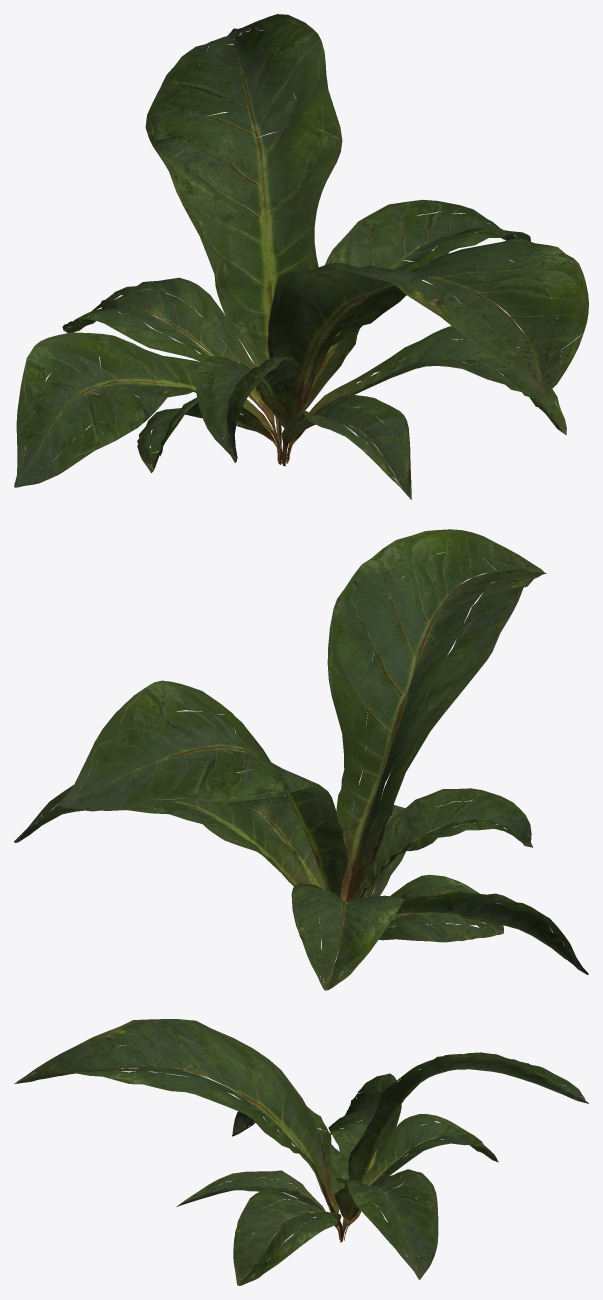
File: anthurium0.glb
The picture shows the model from 3 angles, top to bottom: view 1: azimuth 30°, elevation 25°; view 2: azimuth 150°, elevation 25°; view 3: azimuth 270°, elevation 25°; orthographic projection. The views are drawn at different scales.
Visible parts, largest first — view 1: anthurium_botany_01_a; view 2: anthurium_botany_01_a; view 3: anthurium_botany_01_a.
Part boxes in pixels (x1=…): anthurium_botany_01_a: x1=14, y1=14, x2=588, y2=499; anthurium_botany_01_a: x1=14, y1=529, x2=588, y2=990; anthurium_botany_01_a: x1=14, y1=1019, x2=588, y2=1285.
Size of the model in its own units: 0.8965 by 0.501 by 1.14.
Materials: 1 (1 with a texture image).
